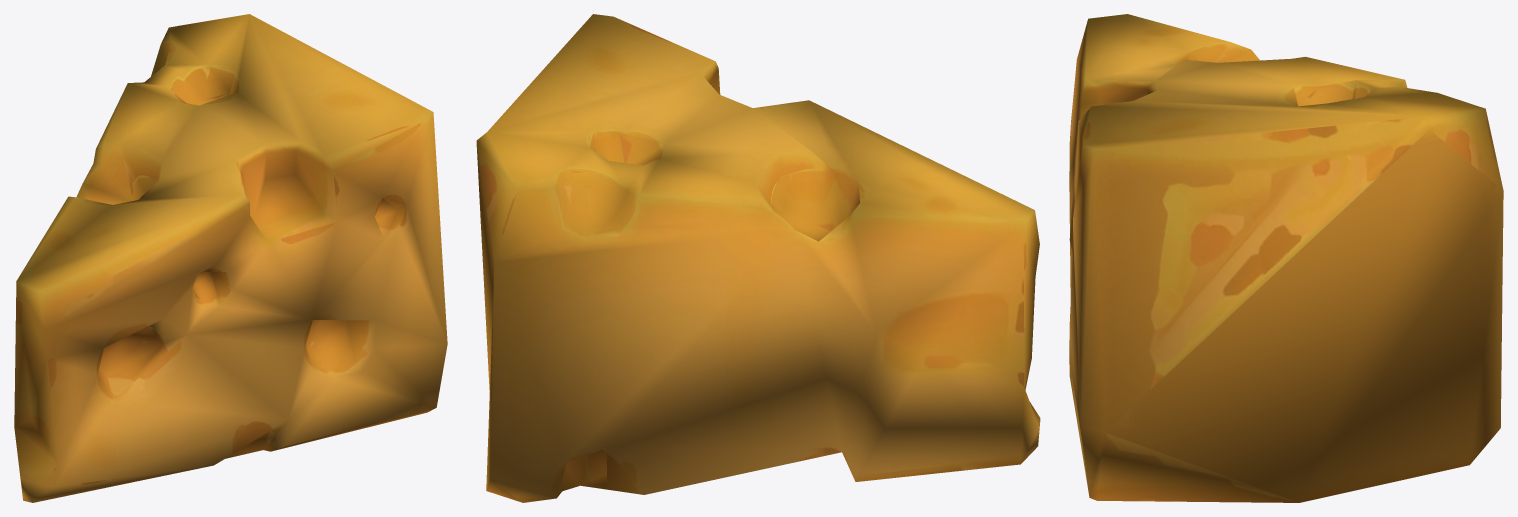
File: cheese.glb
The picture shows the model from 3 angles, left to right: view 1: azimuth 30°, elevation 25°; view 2: azimuth 150°, elevation 25°; view 3: azimuth 270°, elevation 25°; orthographic projection. The views are drawn at different scales.
Parts seen in each view (by area): view 1: tripo_node_cb4fd872; view 2: tripo_node_cb4fd872; view 3: tripo_node_cb4fd872.
Boxes of the visible parts, x1=… form: tripo_node_cb4fd872: x1=14, y1=14, x2=447, y2=502; tripo_node_cb4fd872: x1=476, y1=14, x2=1040, y2=502; tripo_node_cb4fd872: x1=1069, y1=14, x2=1503, y2=502.
Size of the model in its own units: 0.1572 by 0.1099 by 0.1188.
Materials: 1 (1 with a texture image).
